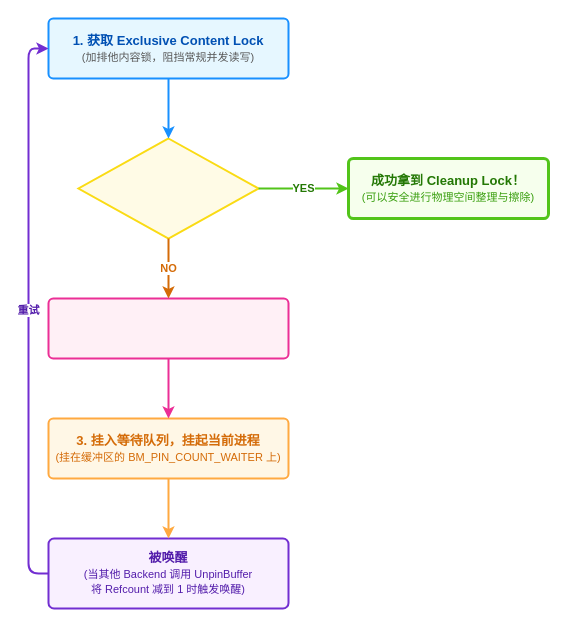
The diagram is 567 pixels wide and 626 high, and some of its shapes have lost their labels. Here are the shapes that lost their labels. From the top down, the centre of each, then its label:
At pixel 168 188: "Refcount == 1 ?".
At pixel 168 328: "2. 释放 Exclusive Content Lock (极度温和：避免死等阻塞其他 Reader 读页)".
